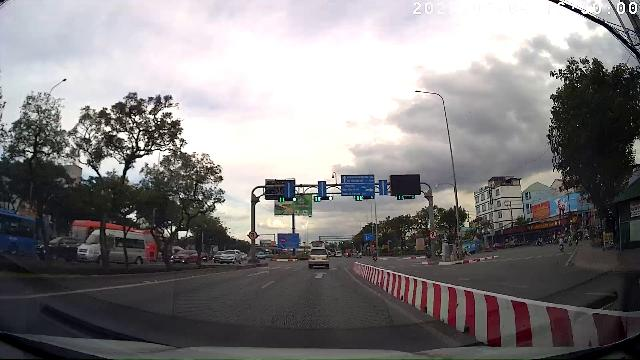124a-cam-quay-dau-xe: (428, 230, 438, 239), (248, 231, 258, 240)
